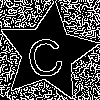C: (22, 27, 66, 80)
